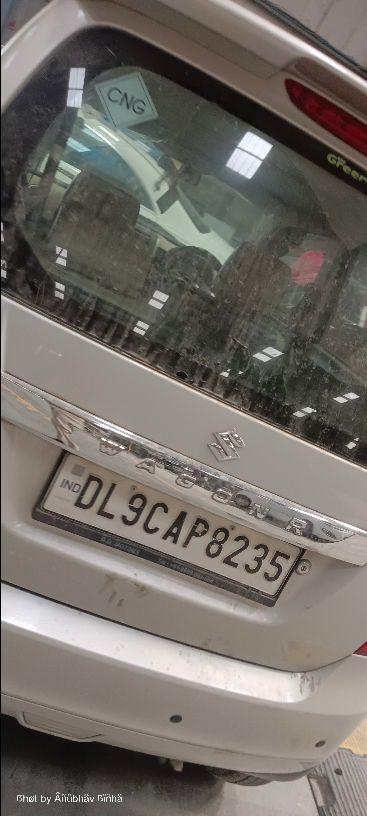license_plate: (31, 449, 306, 608)
